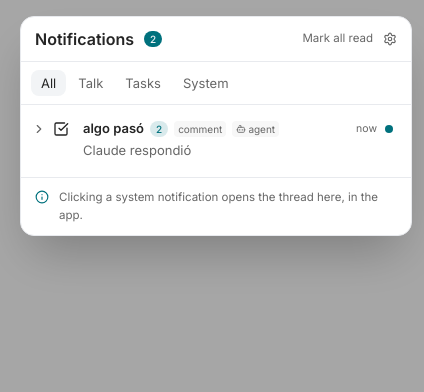
de quién fue › marca lo que escribió el agente, y sólo eso
Expected: the element titled "Includes 1 written by an agent" is shown, [232, 121, 279, 137]
Click the button named "Expand ". click: (39, 129)
box: [29, 119, 49, 139]
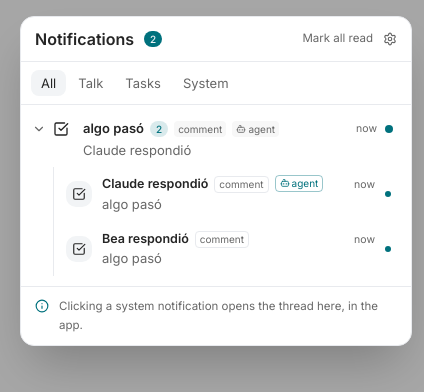
Expected: the number of elements titled "Written by an agent" is 1, [275, 174, 323, 192]
Expected: the 2nd element titled "Written by an agent" is shown, [292, 176, 318, 188]
